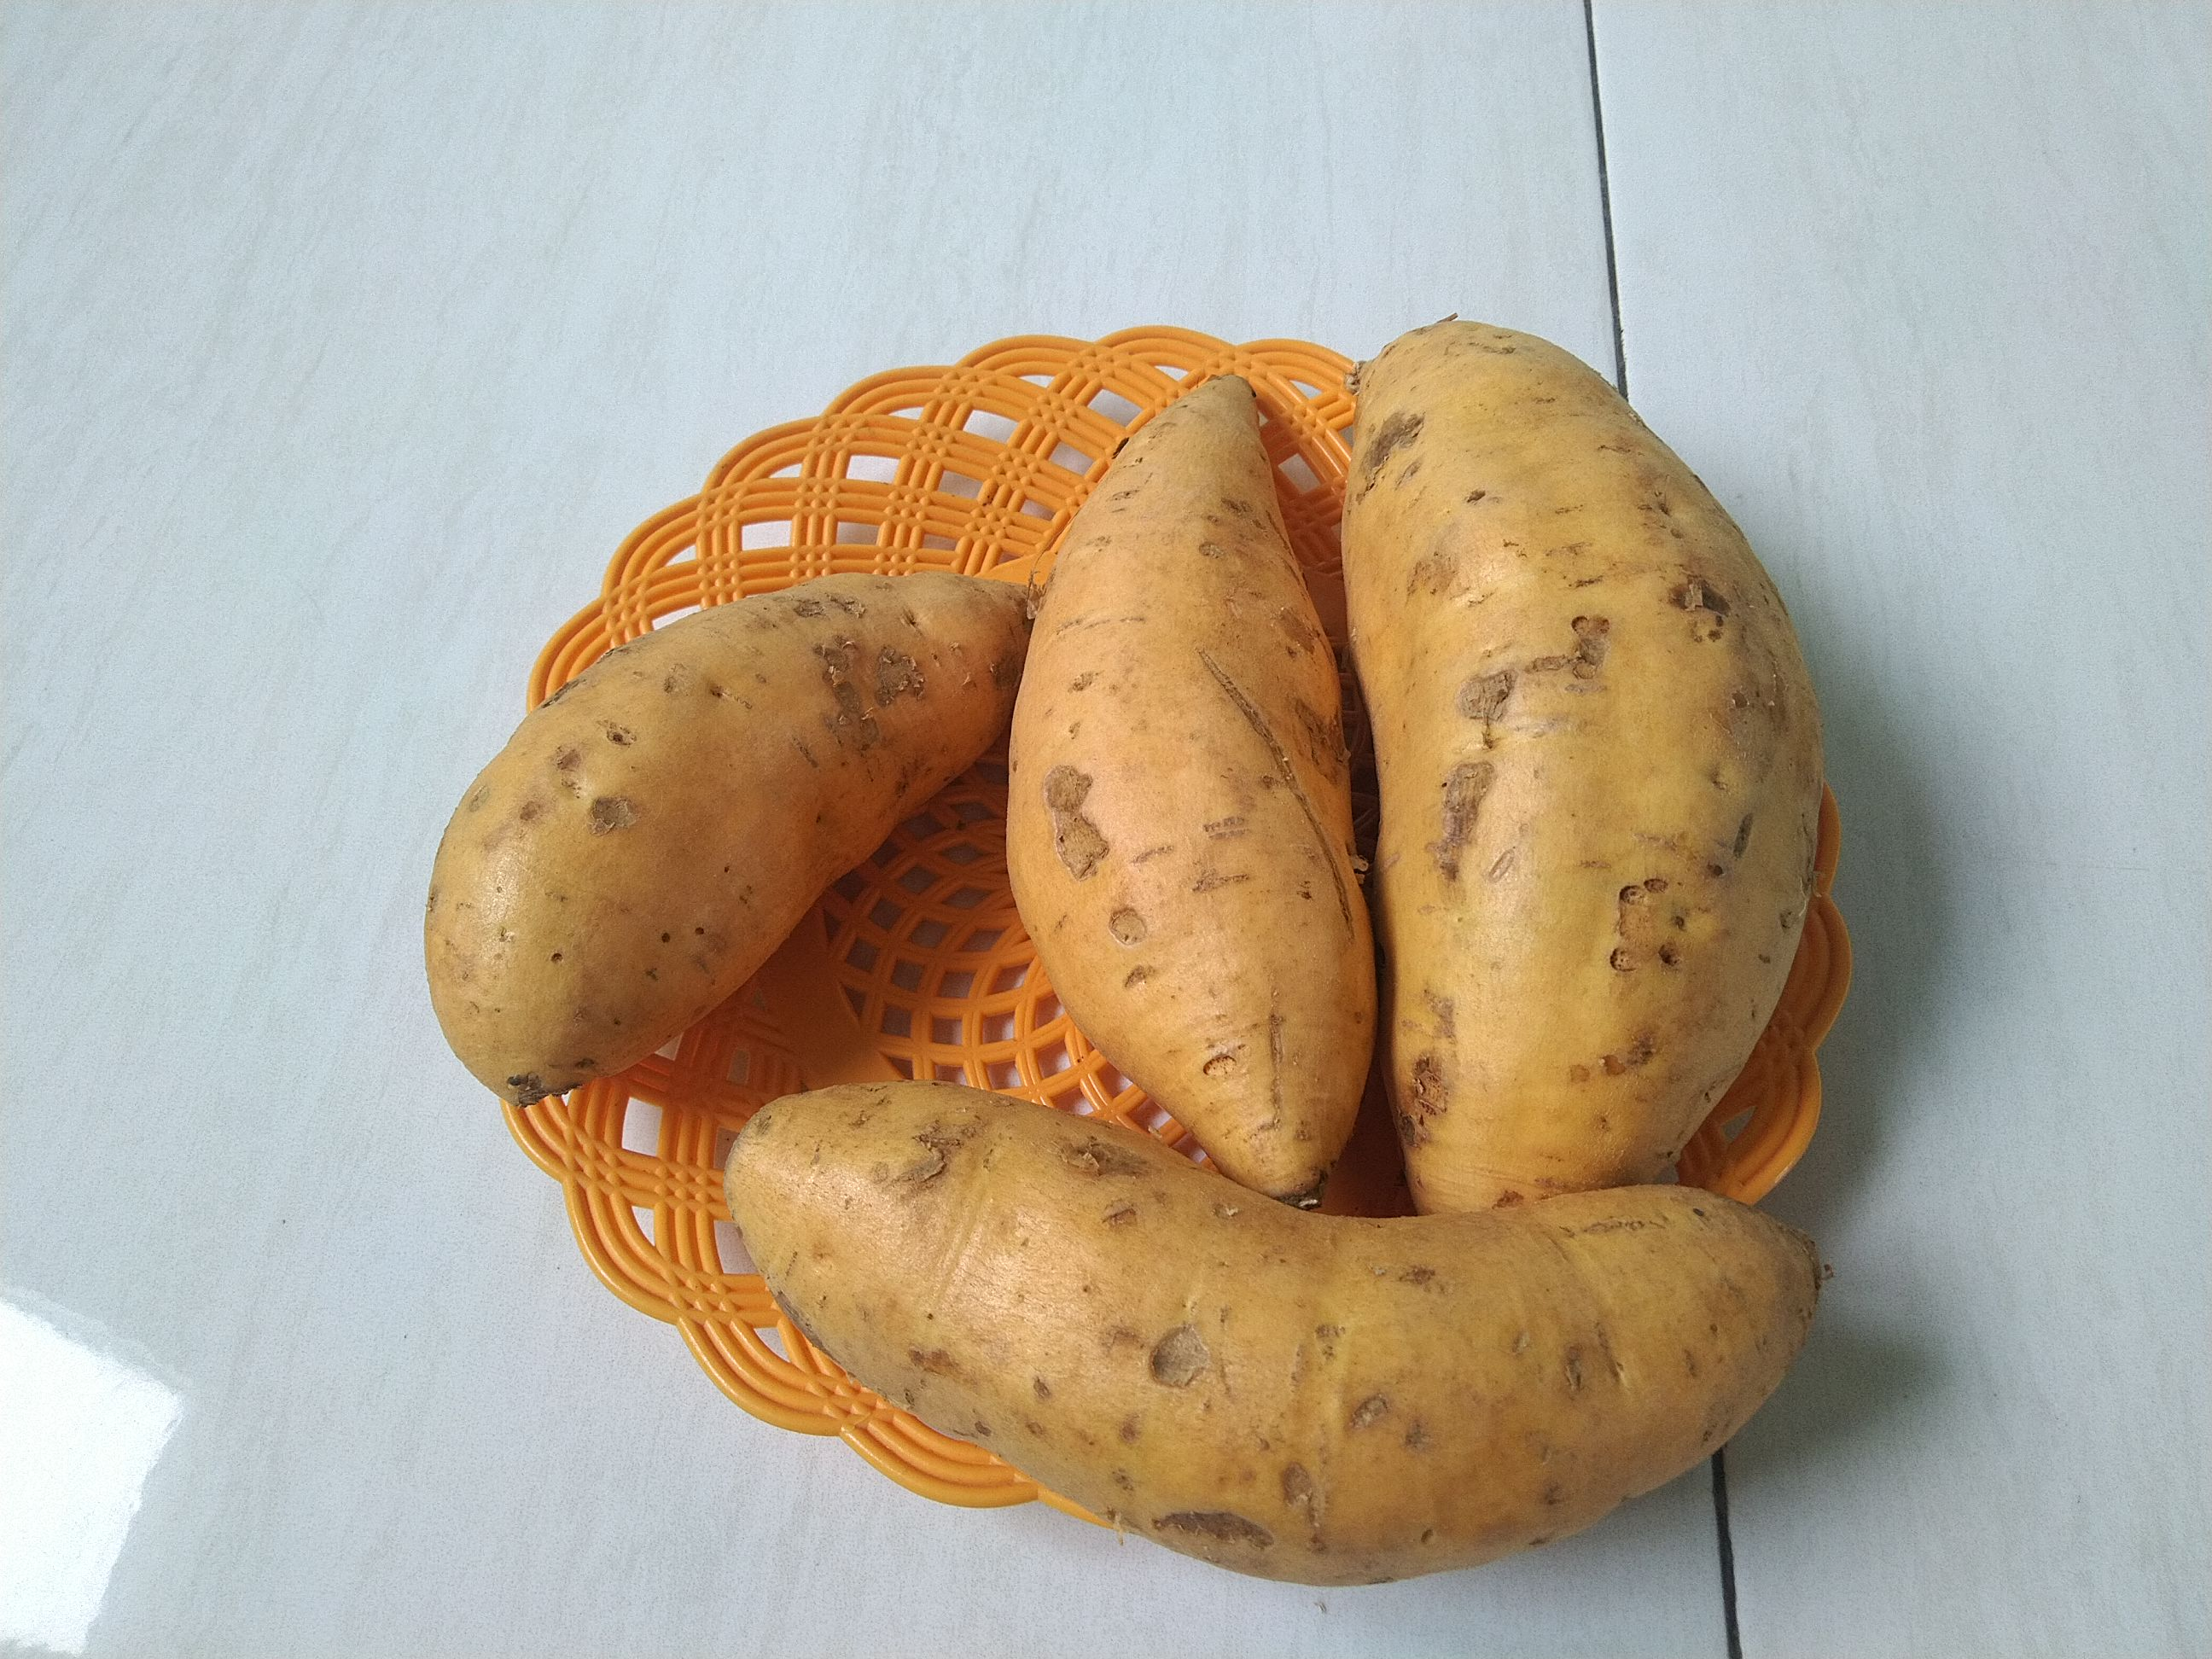ubi cilembu: (415, 308, 1858, 1544), (704, 1077, 1921, 1593), (1338, 303, 1834, 1220), (415, 547, 1049, 1115), (984, 352, 1385, 1190)
